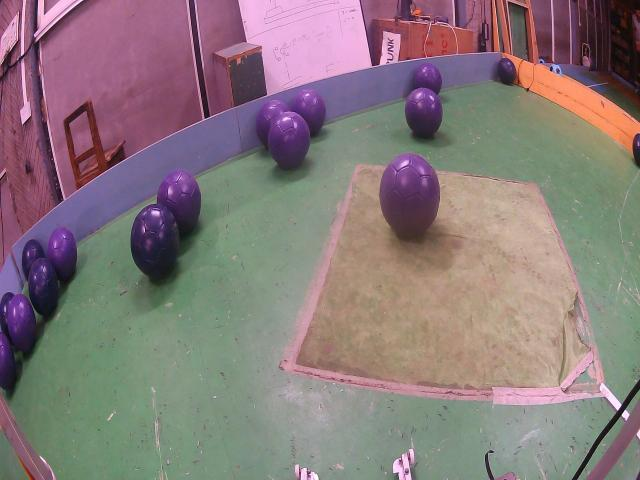jambhalya: (379, 153, 440, 237), (158, 170, 201, 235), (268, 112, 310, 168), (405, 87, 442, 137), (8, 293, 36, 352), (48, 227, 78, 280), (256, 100, 289, 148), (291, 90, 326, 135), (414, 63, 442, 95), (0, 332, 15, 390)
kaalyya: (130, 203, 179, 277), (29, 258, 59, 315), (21, 240, 45, 280), (0, 292, 14, 340), (498, 58, 516, 85)
